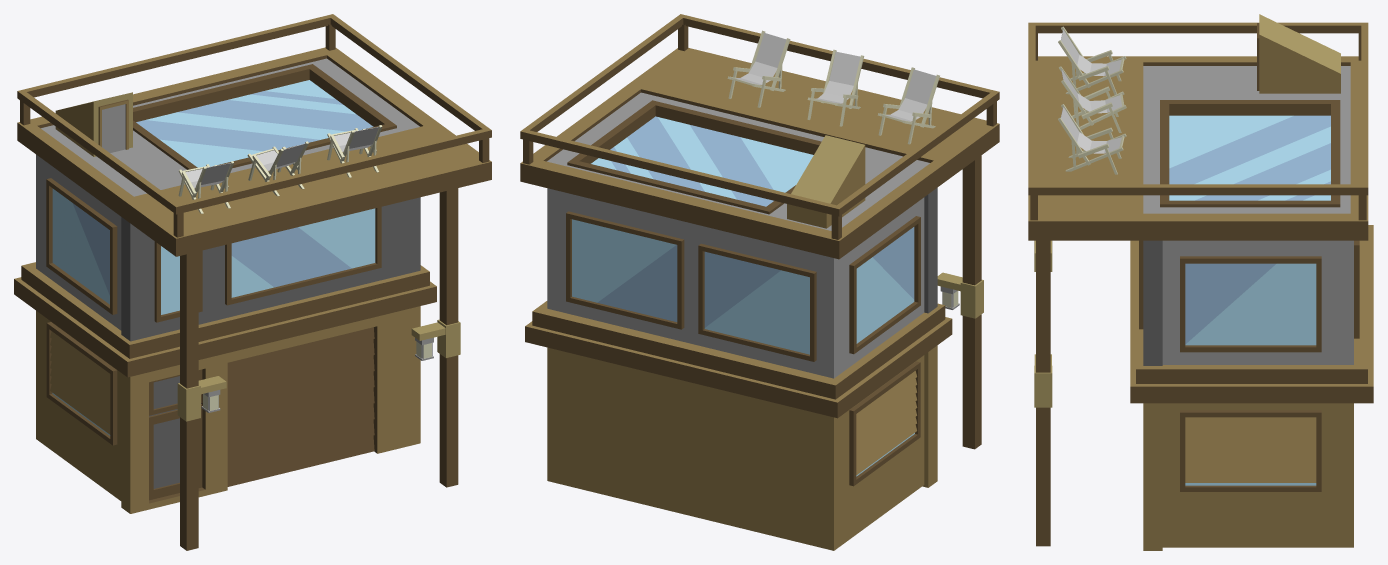
File: cottage_001.fbx
3 views of the same model, side by side, from view 1: azimuth 30°, elevation 25°; view 2: azimuth 150°, elevation 25°; view 3: azimuth 270°, elevation 25° (orthographic). The views are drawn at different scales.
Parts seen in each view (by area): view 1: cottage_001; view 2: cottage_001; view 3: cottage_001.
Part boxes in pixels (x1,y1,x2,y2): cottage_001: (14, 14, 491, 550); cottage_001: (520, 14, 999, 550); cottage_001: (1028, 14, 1373, 550).
Size of the model in its own units: 641 by 716 by 566.
